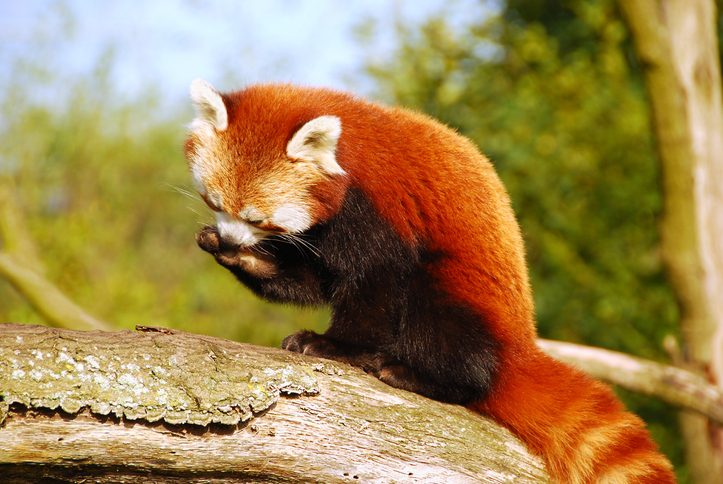red_panda: (175, 72, 647, 456)
